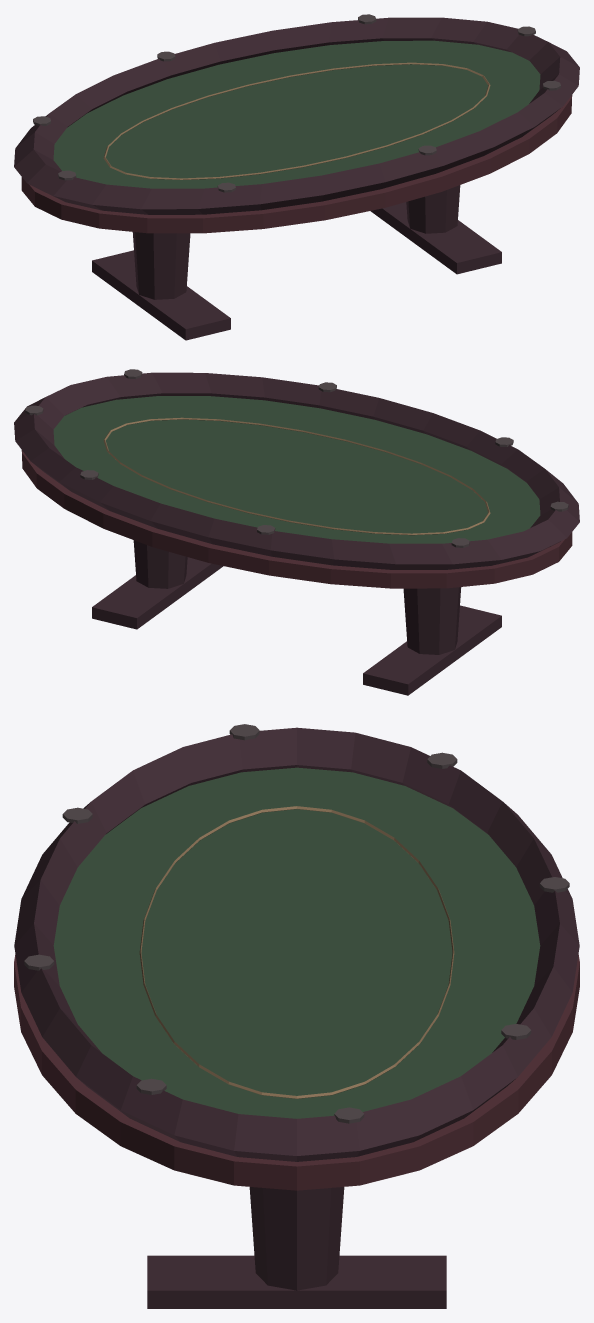
The model's file is masa_poker.glb.
3 views of the same model, one above another, from view 1: azimuth 30°, elevation 25°; view 2: azimuth 150°, elevation 25°; view 3: azimuth 270°, elevation 25° (orthographic). The views are drawn at different scales.
Visible parts, largest first — view 1: Masa; view 2: Masa; view 3: Masa.
Boxes of the visible parts, bbox=[...] form: Masa: bbox=[14, 14, 579, 340]; Masa: bbox=[14, 369, 579, 695]; Masa: bbox=[14, 724, 579, 1308].
Size of the model in its own units: 2.99 by 0.874 by 1.7.
